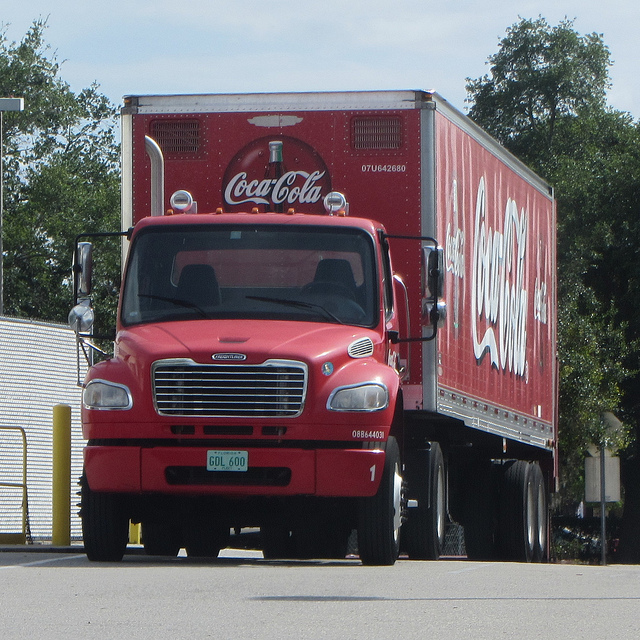truck: (72, 87, 564, 568)
